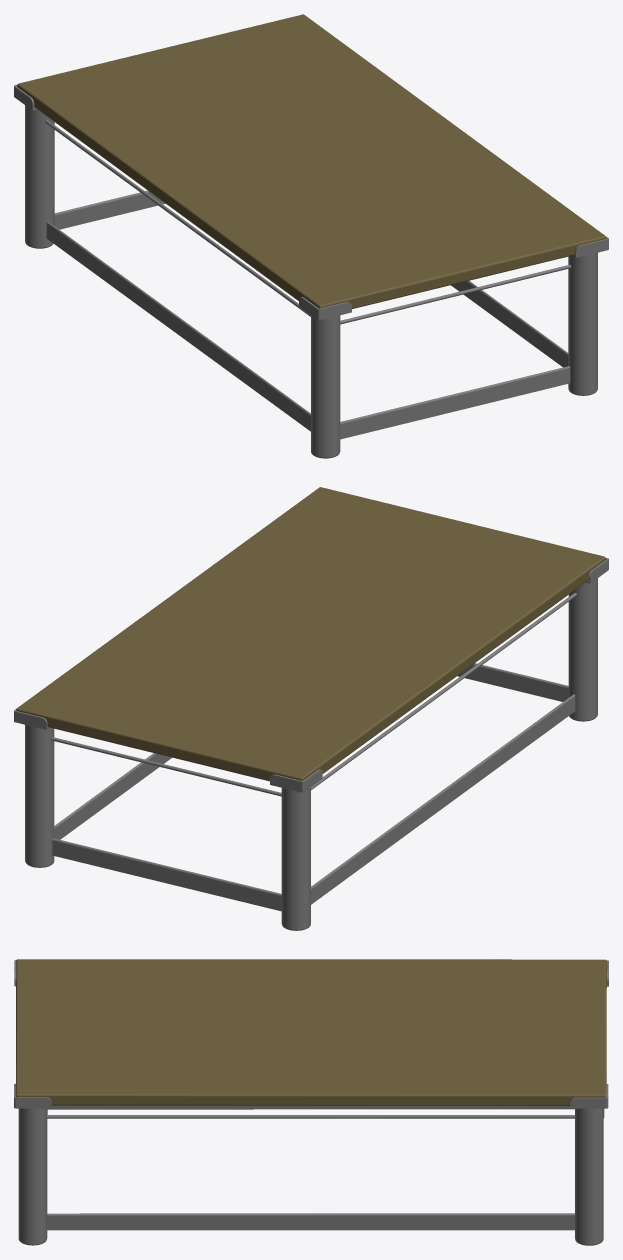
3 views of the same model, one above another, from view 1: azimuth 30°, elevation 25°; view 2: azimuth 150°, elevation 25°; view 3: azimuth 270°, elevation 25° (orthographic). The views are drawn at different scales.
Visible parts, largest first — view 1: Mesh1_Group1_Model.002; view 2: Mesh1_Group1_Model.002; view 3: Mesh1_Group1_Model.002.
Part boxes in pixels (left/top/right/bottom): Mesh1_Group1_Model.002: left=14, top=14, right=608, bottom=458; Mesh1_Group1_Model.002: left=14, top=487, right=608, bottom=930; Mesh1_Group1_Model.002: left=14, top=959, right=608, bottom=1245.
Size of the model in its own units: 0.4907 by 0.2524 by 0.8926.
